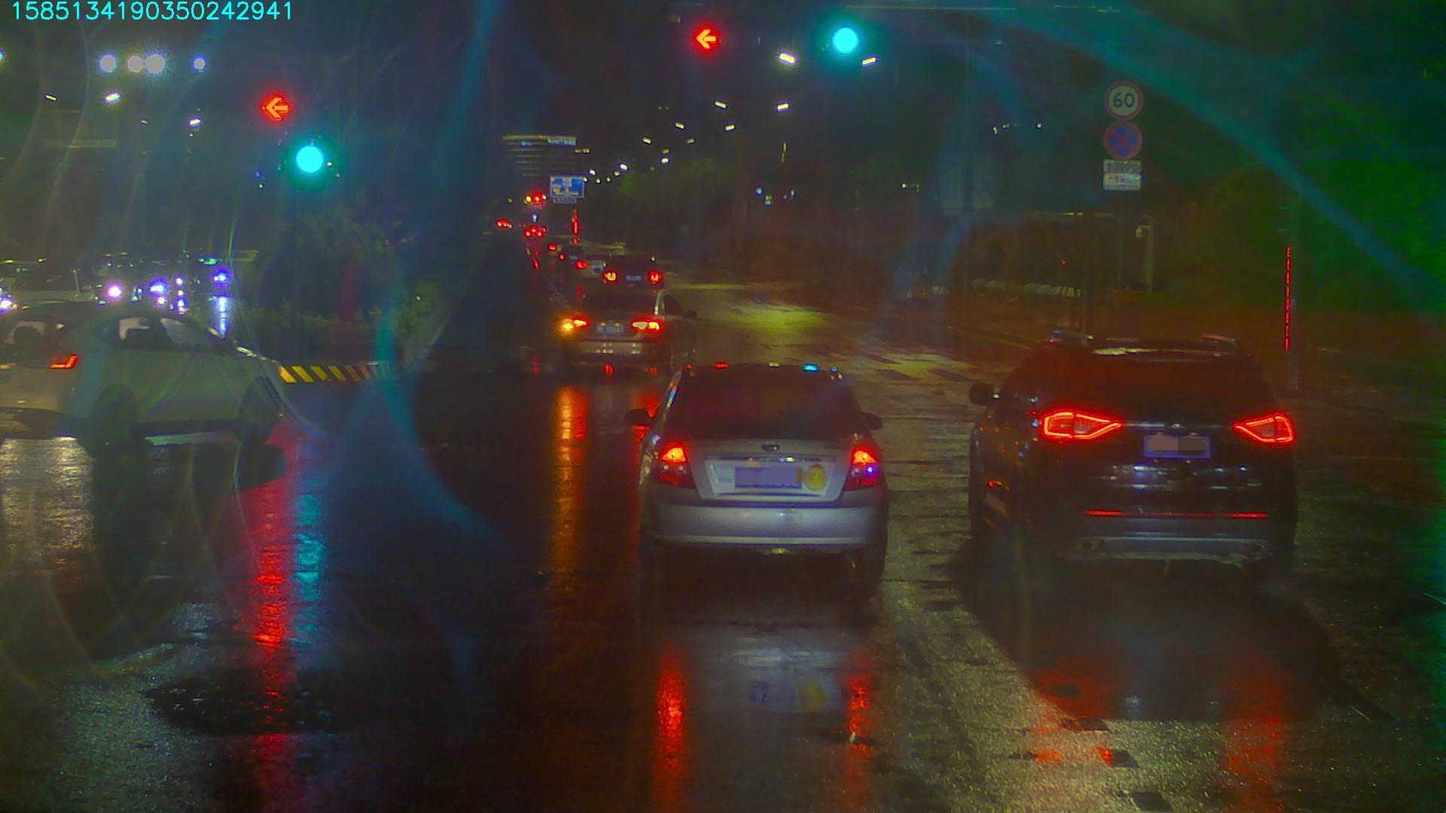green: (822, 25, 864, 56)
red: (677, 21, 731, 56)
